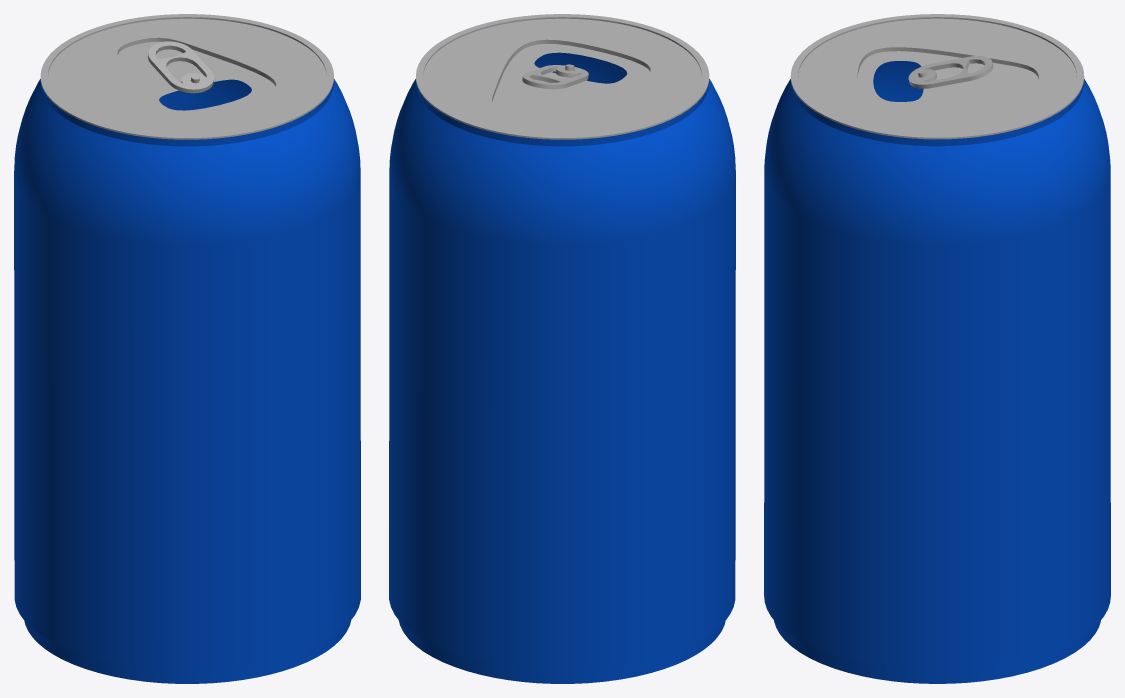
The model's file is sparkling.fbx.
The picture shows the model from 3 angles, left to right: view 1: azimuth 30°, elevation 25°; view 2: azimuth 150°, elevation 25°; view 3: azimuth 270°, elevation 25°; orthographic projection.
Parts seen in each view (by area): view 1: can_2, can top; view 2: can_2, can top; view 3: can_2, can top.
Boxes of the visible parts, x1,y1,x2,y2 form: can_2: [14, 79, 360, 683]; can top: [40, 14, 333, 139]; can_2: [389, 52, 735, 683]; can top: [416, 14, 709, 139]; can_2: [764, 61, 1110, 683]; can top: [790, 14, 1084, 139].
Size of the model in its own units: 0.9499 by 1.67 by 0.9489.
